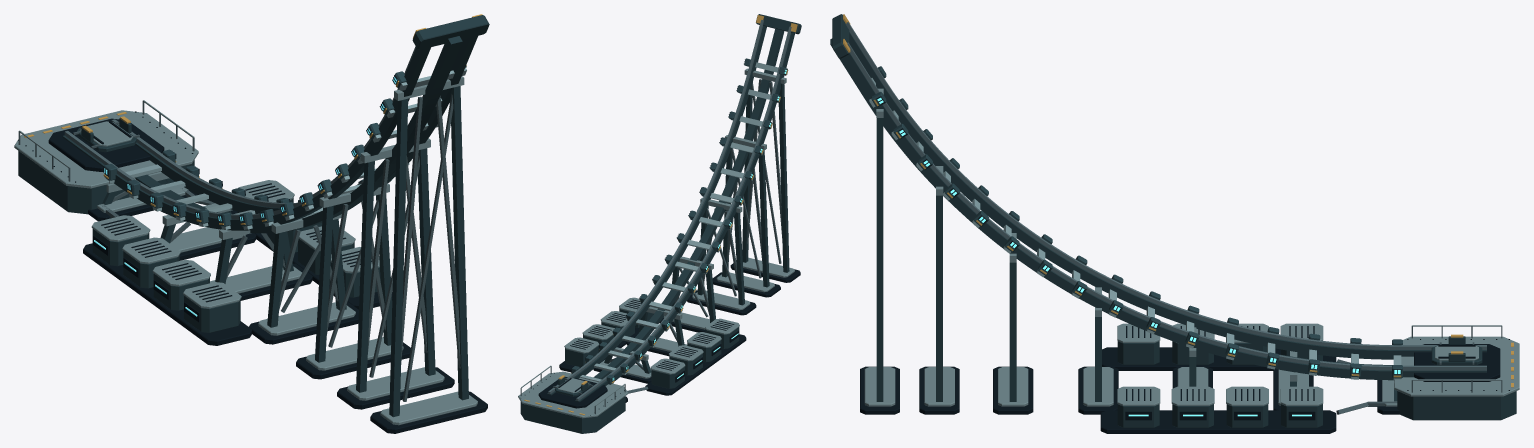
File: launcher_d0_lod0.glb
3 renders of one model, left to right at view 1: azimuth 30°, elevation 25°; view 2: azimuth 150°, elevation 25°; view 3: azimuth 270°, elevation 25°, orthographic. The views are drawn at different scales.
Visible parts, largest first — view 1: LAUNCHER_STRUCTURE, PASSAGE_GATES, CONTINUOUS_RAILS, SLED_BODY; view 2: LAUNCHER_STRUCTURE, PASSAGE_GATES, CONTINUOUS_RAILS, SLED_BODY; view 3: LAUNCHER_STRUCTURE, CONTINUOUS_RAILS, PASSAGE_GATES, SLED_BODY, ACCELERATOR_LIGHTS.
Boxes of the visible parts, x1,y1,x2,y2 form: LAUNCHER_STRUCTURE: (14, 14, 489, 433); PASSAGE_GATES: (104, 65, 466, 229); CONTINUOUS_RAILS: (64, 46, 416, 219); SLED_BODY: (73, 121, 139, 152); LAUNCHER_STRUCTURE: (518, 14, 801, 433); PASSAGE_GATES: (571, 58, 788, 384); CONTINUOUS_RAILS: (548, 20, 791, 400); SLED_BODY: (553, 378, 593, 396); LAUNCHER_STRUCTURE: (830, 14, 1519, 433); CONTINUOUS_RAILS: (845, 22, 1486, 370); PASSAGE_GATES: (869, 66, 1402, 380); SLED_BODY: (1431, 342, 1482, 365); ACCELERATOR_LIGHTS: (877, 97, 1400, 416).
Bounding box in the file's own units: 13.1 × 27 × 46.23.
